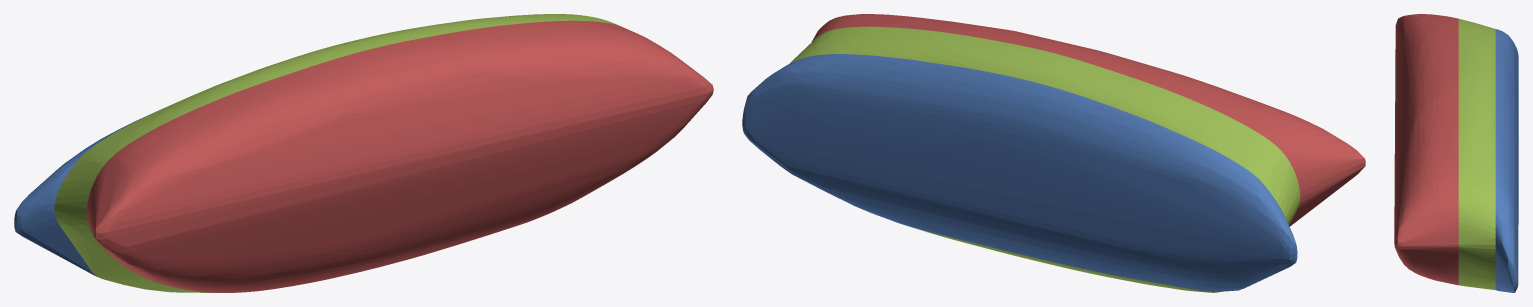
File: hulls.glb
3 views of the same model, side by side, from view 1: azimuth 30°, elevation 25°; view 2: azimuth 150°, elevation 25°; view 3: azimuth 270°, elevation 25° (orthographic). The views are drawn at different scales.
Size of the model in its own units: 1.49 by 0.5131 by 0.3537.
